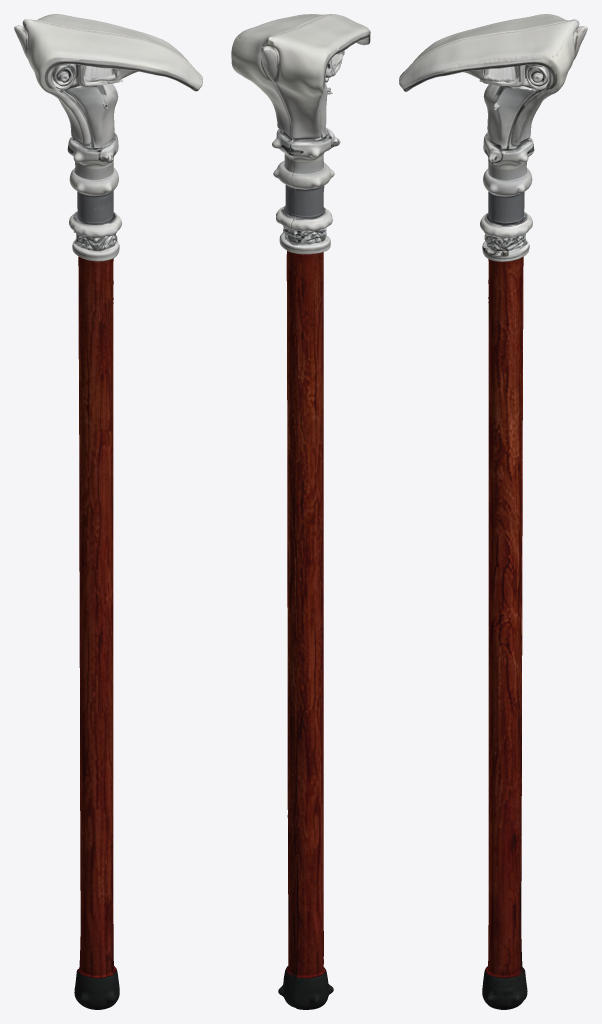
The model's file is walking-cane.glb.
The picture shows the model from 3 angles, left to right: view 1: azimuth 90°, elevation 25°; view 2: azimuth 150°, elevation 25°; view 3: azimuth 270°, elevation 25°; orthographic projection.
Parts seen in each view (by area): view 1: tripo_node_b8ba920d-4c44-4719-8bd7-479bae5e99f7; view 2: tripo_node_b8ba920d-4c44-4719-8bd7-479bae5e99f7; view 3: tripo_node_b8ba920d-4c44-4719-8bd7-479bae5e99f7.
Boxes of the visible parts, x1,y1,x2,y2 form: tripo_node_b8ba920d-4c44-4719-8bd7-479bae5e99f7: (14,14,202,1009); tripo_node_b8ba920d-4c44-4719-8bd7-479bae5e99f7: (231,14,370,1009); tripo_node_b8ba920d-4c44-4719-8bd7-479bae5e99f7: (399,14,587,1009).
Size of the model in its own units: 0.095 by 0.9828 by 0.1706.
1 material, 1 textured.
